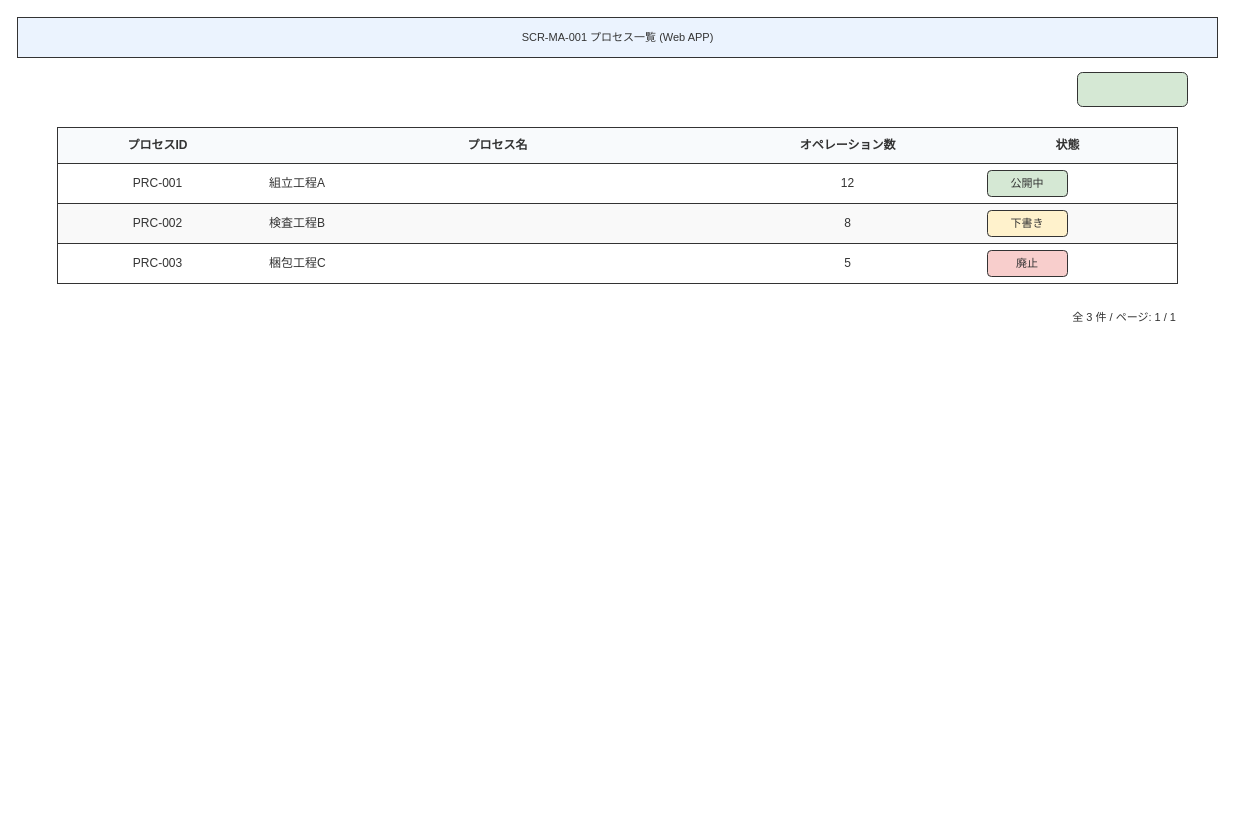
Image size: 1235x835. Some labels were removed from this diagram. Each missing label, with the box of its shape:
マスタメンテ APP | プロセス一覧: (16, 16, 1218, 58)
新規作成: (1076, 72, 1188, 106)
